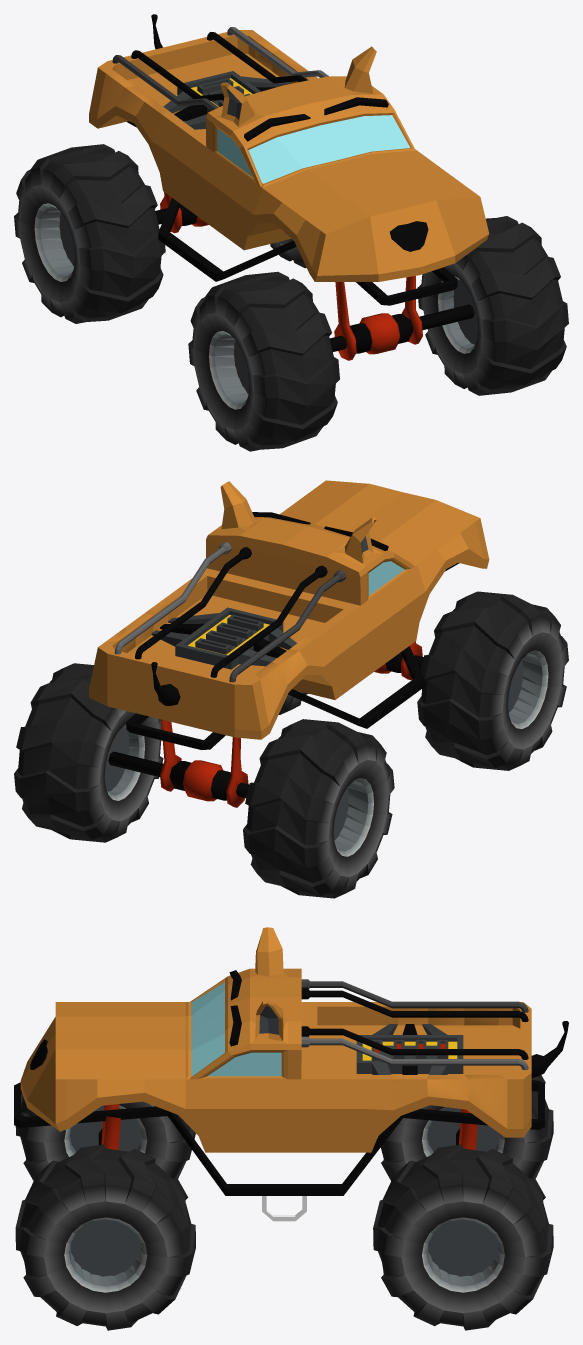
The model's file is Dog.fbx.
The picture shows the model from 3 angles, top to bottom: view 1: azimuth 30°, elevation 25°; view 2: azimuth 150°, elevation 25°; view 3: azimuth 270°, elevation 25°; orthographic projection. The views are drawn at different scales.
Visible parts, largest first — view 1: Monster_Truck_Body, Wheel_FR, Wheel_RR, Wheel_FL, Monster_Truck_Livery, Axel Front, Axel Back; view 2: Monster_Truck_Body, Wheel_RR, Wheel_FR, Wheel_RL, Monster_Truck_Livery, Axel Back, Axel Front; view 3: Monster_Truck_Body, Wheel_RL, Wheel_FL, Monster_Truck_Livery, Wheel_FR, Wheel_RR, Axel Front, Axel Back.
Part boxes in pixels (x1,y1,x2,y2): Monster_Truck_Body: [89, 30, 489, 305]; Wheel_FR: [188, 271, 339, 451]; Wheel_RR: [14, 144, 165, 323]; Wheel_FL: [417, 216, 568, 395]; Monster_Truck_Livery: [112, 14, 428, 251]; Axel Front: [329, 276, 474, 360]; Axel Back: [155, 192, 208, 233]; Monster_Truck_Body: [89, 480, 489, 749]; Wheel_RR: [243, 719, 394, 898]; Wheel_FR: [417, 591, 568, 770]; Wheel_RL: [14, 663, 163, 842]; Monster_Truck_Livery: [114, 542, 346, 705]; Axel Back: [108, 719, 249, 807]; Axel Front: [374, 641, 423, 680]; Monster_Truck_Body: [14, 927, 544, 1221]; Wheel_RL: [373, 1144, 553, 1330]; Wheel_FL: [15, 1144, 195, 1330]; Monster_Truck_Livery: [30, 979, 568, 1078]; Wheel_FR: [15, 1093, 195, 1180]; Wheel_RR: [378, 1075, 553, 1180]; Axel Front: [98, 1104, 120, 1150]; Axel Back: [456, 1109, 477, 1150].
Size of the model in its own units: 485 by 437 by 738.
